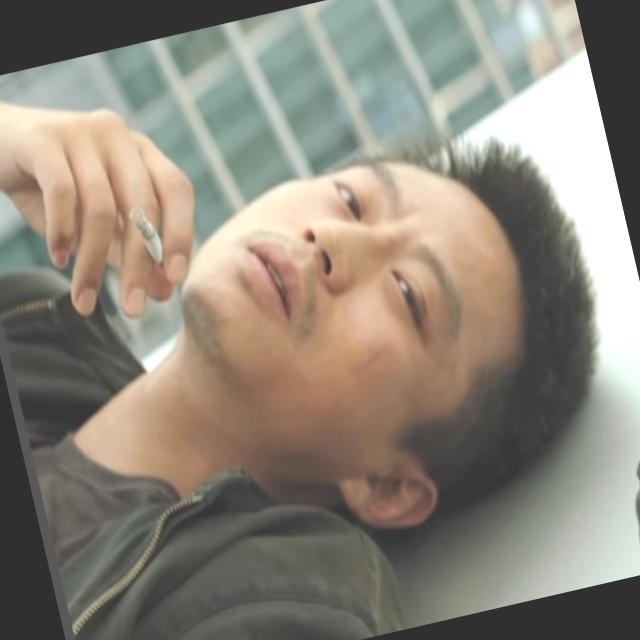cigarette: (118, 198, 170, 262)
